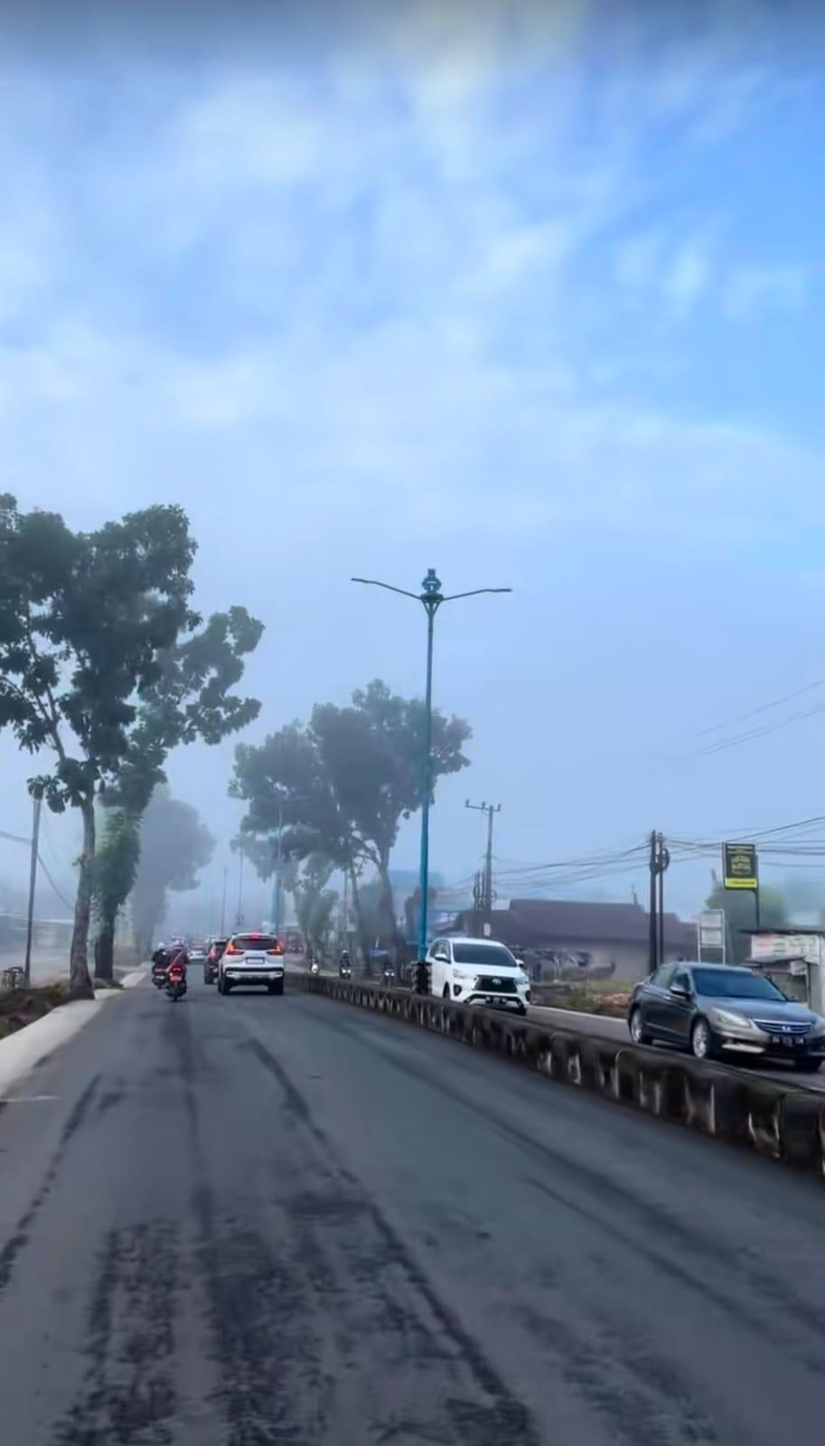Deteksi-Objek-Citra-Berasap: (0, 694, 825, 953)
Gedung: (458, 897, 698, 977), (724, 926, 825, 1014)
Kendaraan: (625, 961, 825, 1071), (423, 934, 533, 1015), (216, 930, 286, 995), (164, 951, 188, 1001), (204, 937, 223, 985), (150, 952, 170, 989), (186, 943, 206, 963), (339, 962, 352, 980)
Manusia: (164, 938, 188, 984), (150, 944, 170, 975), (339, 950, 352, 971)
Vegetasi: (0, 495, 265, 1002), (226, 676, 475, 969), (126, 775, 220, 953)
